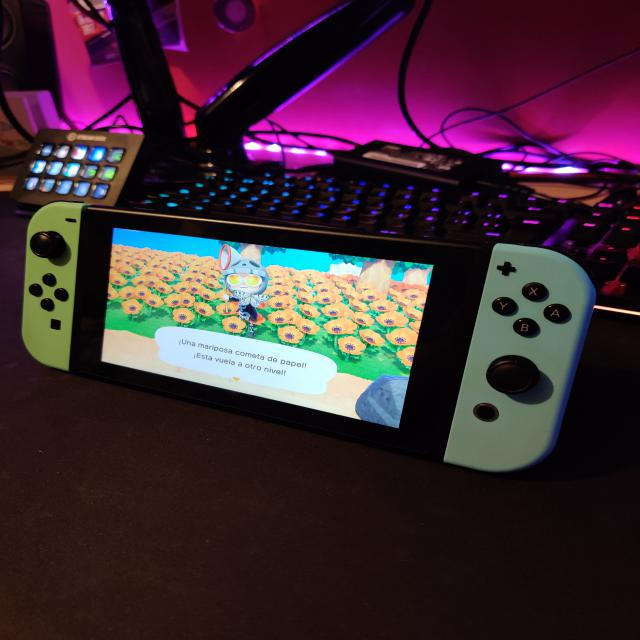text_bubble: (154, 325, 343, 400)
